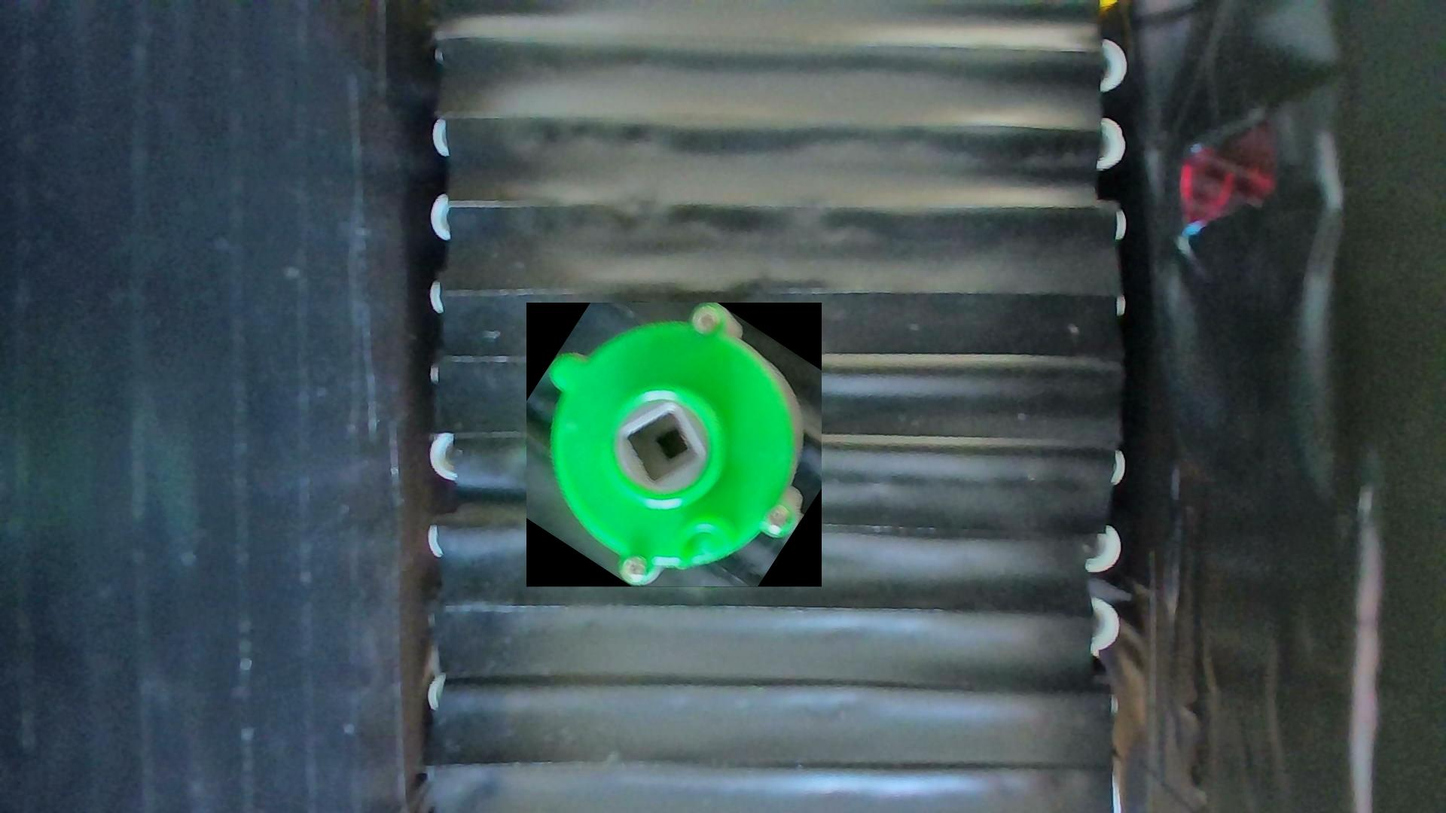cartridge: (526, 303, 822, 588)
